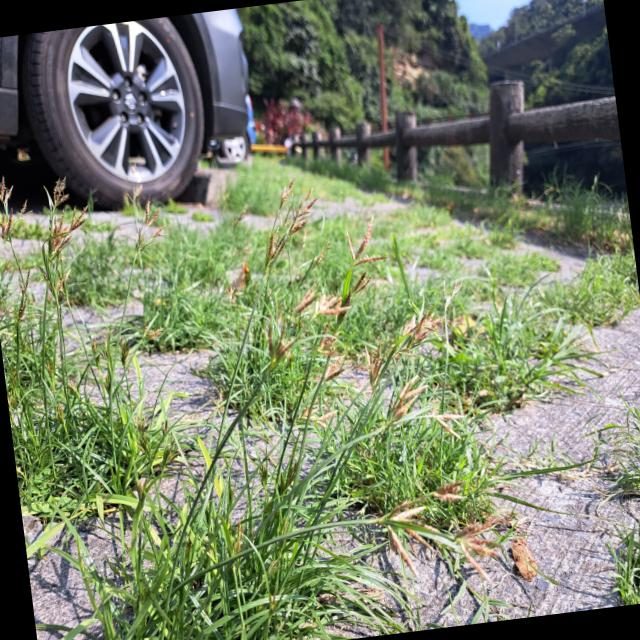cyperus: (366, 472, 518, 602), (248, 273, 358, 387), (317, 209, 395, 335), (29, 164, 99, 301), (246, 171, 328, 281), (80, 312, 170, 399), (353, 303, 449, 383), (127, 401, 182, 487), (361, 372, 434, 436), (122, 162, 166, 255), (0, 169, 30, 245)
